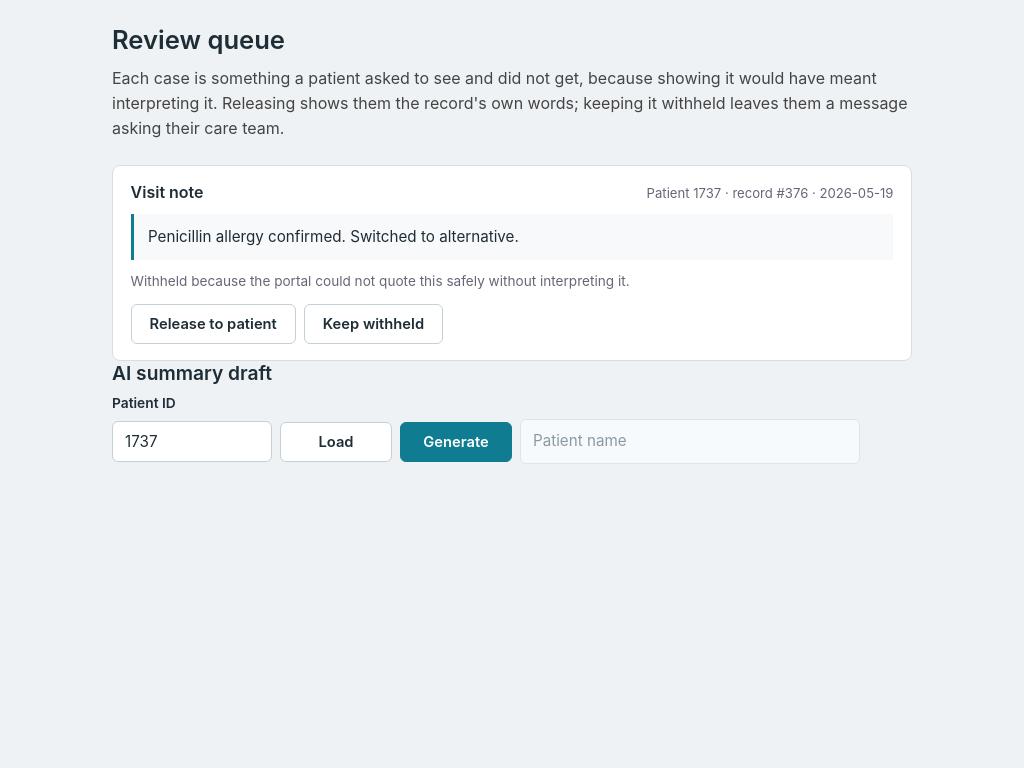
deciding a case › reports the outcome in terms of what the patient can now see
The width and height of the screenshot is (1024, 768).
What coordinates should you click on to do the following:
click the button "Keep withheld"
I would click on:
 (373, 324)
Its box is [304,304,443,344].
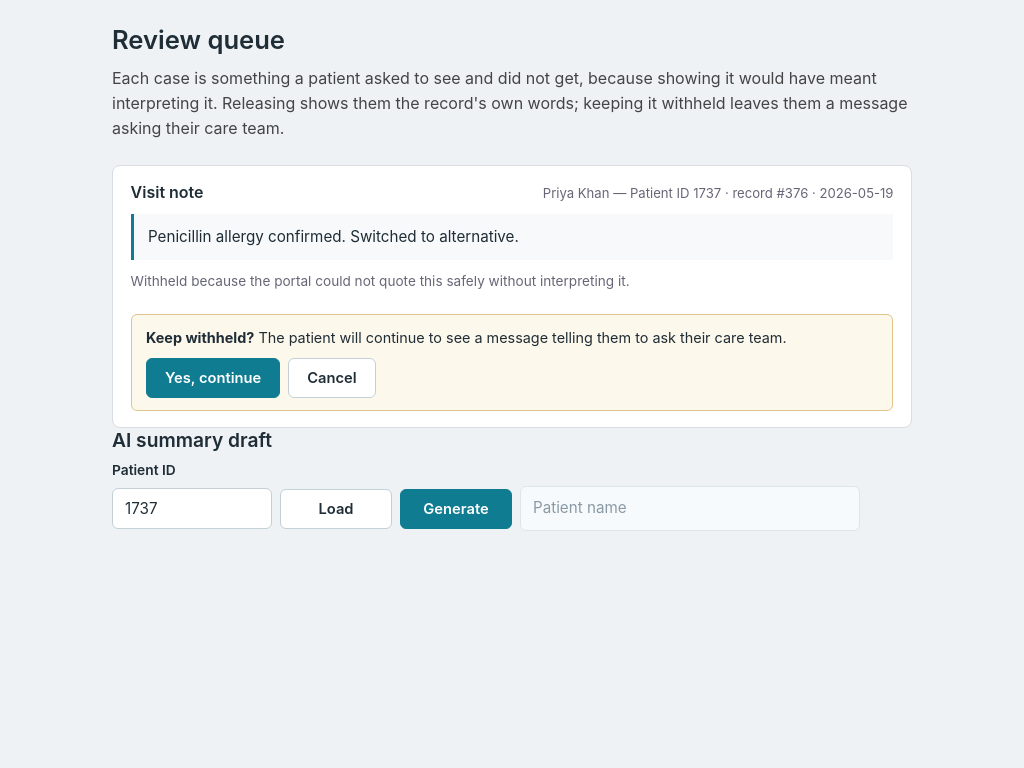
What coordinates should you click on to do the following:
click the button "Yes, continue"
I would click on:
 (213, 378)
Its box is [146,358,280,398].
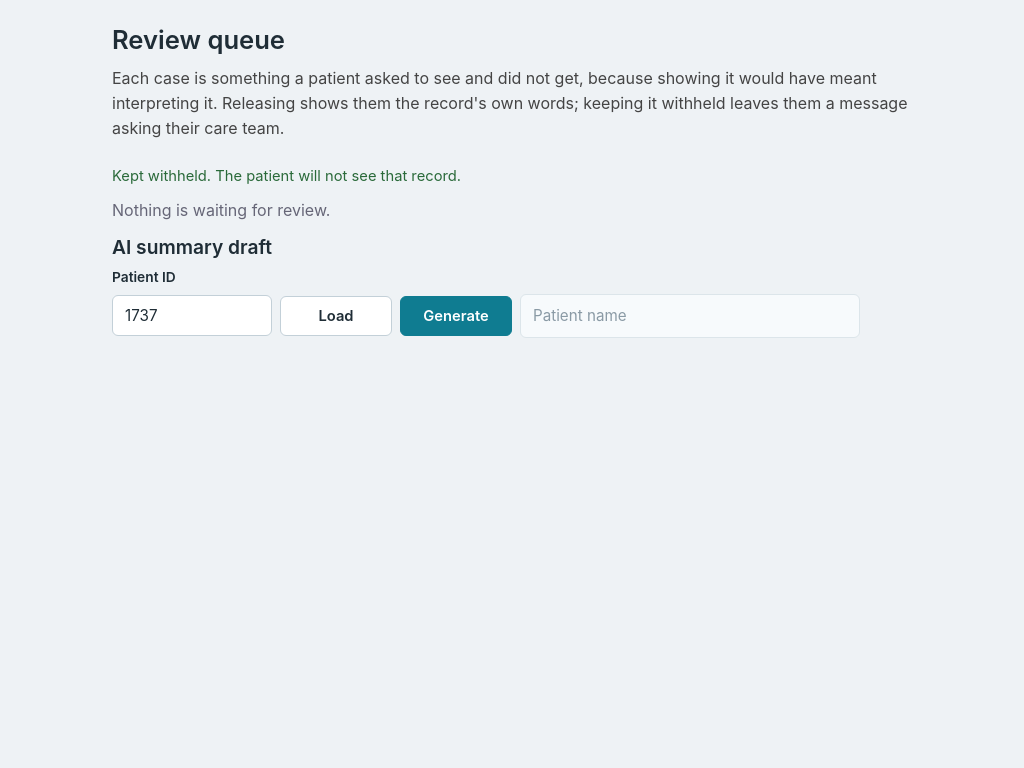
Now the text "Kept withheld. The patient will not see that record." is shown, box [112,167,461,185]
